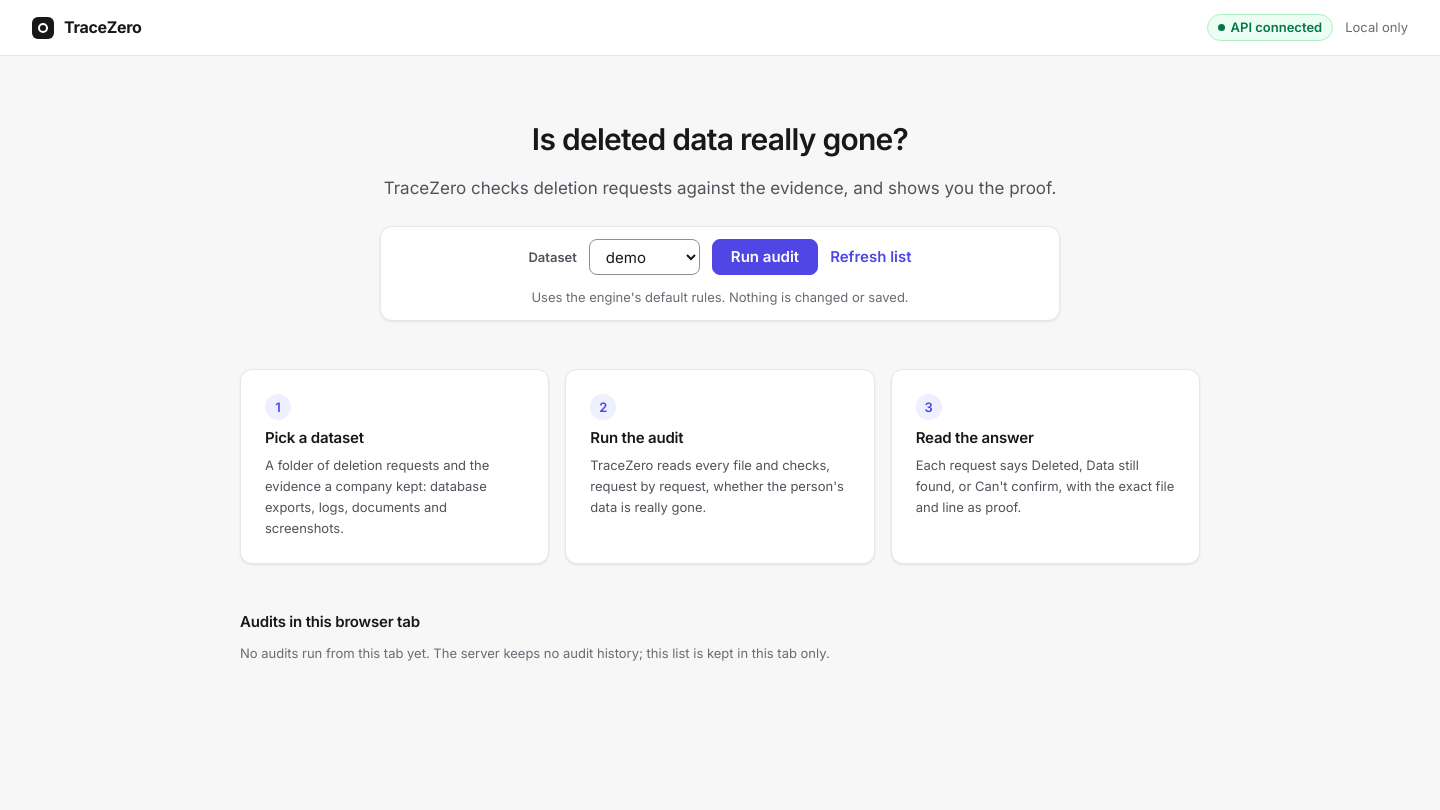
start › reports a busy server without navigating
Check: the dropdown labelled "Dataset" is shown, box [589,239,700,275]
Click the button "Run audit": coordinates (765, 257) [712,239,818,275]
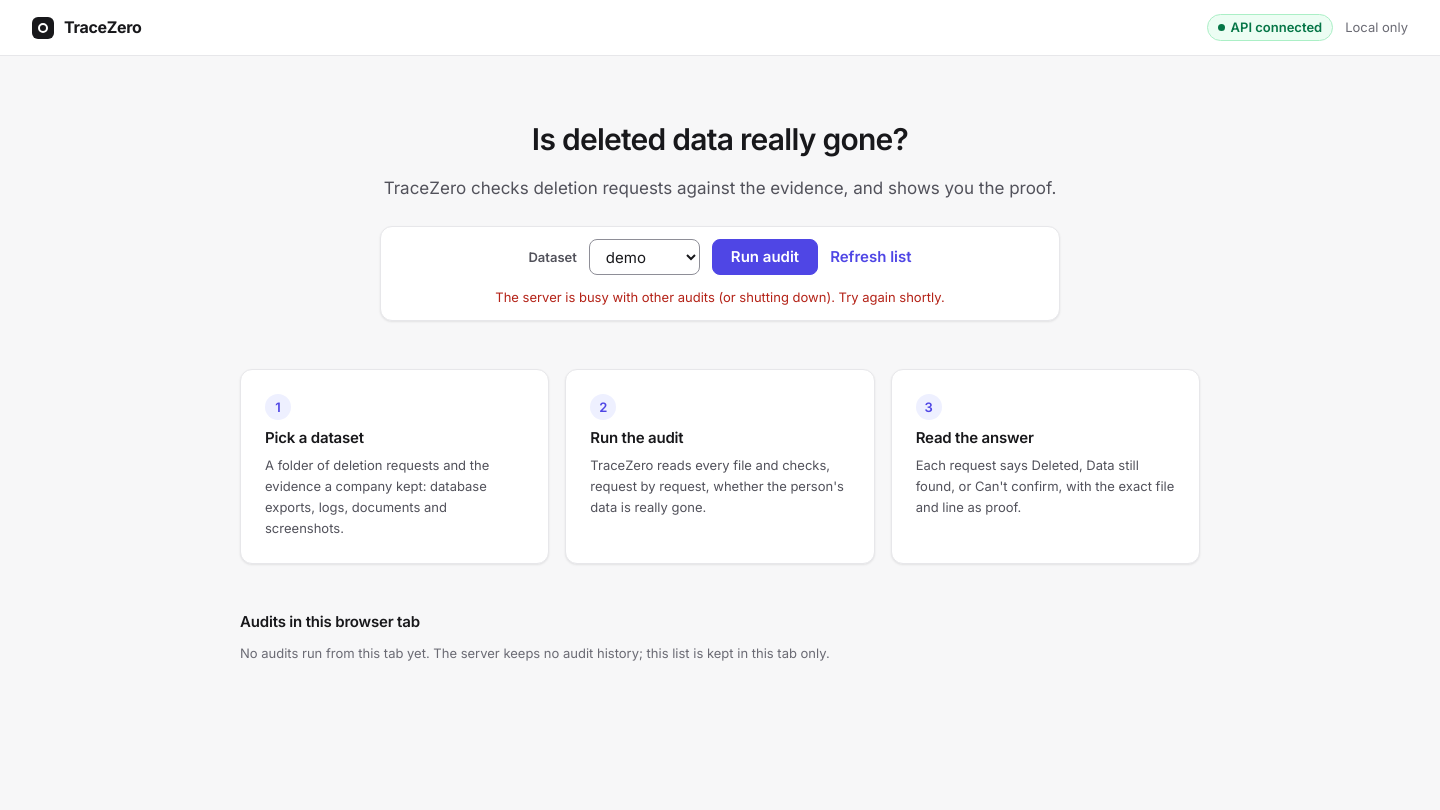
Check: the text "server is busy" is shown, box [495,289,945,305]
